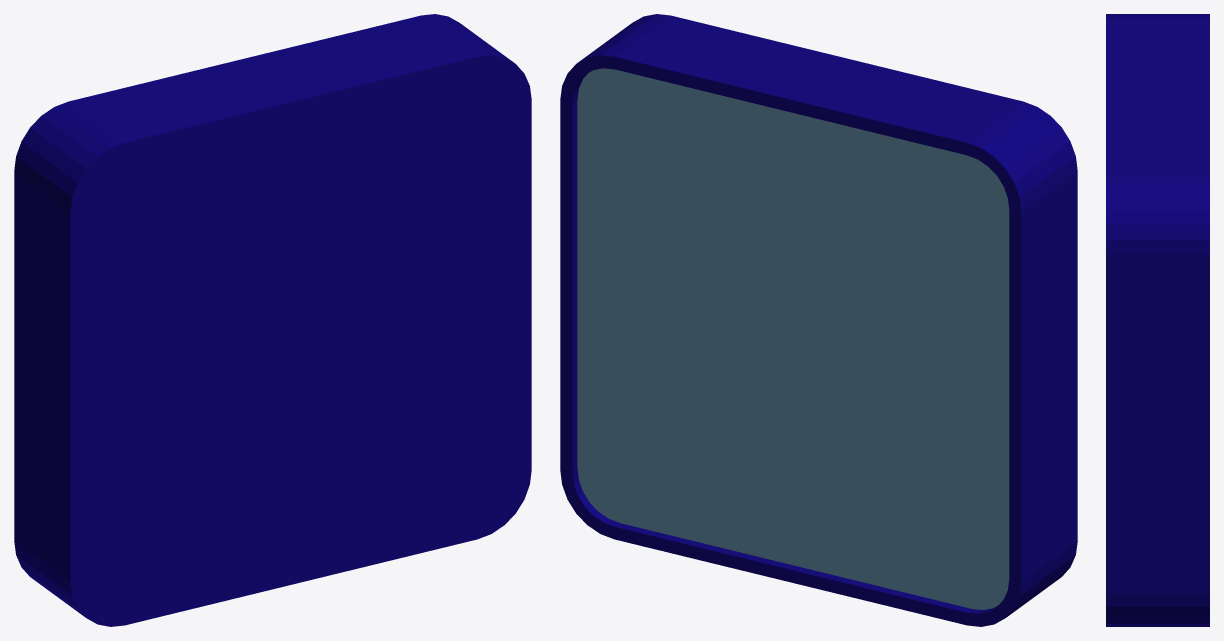
File: Education_Tab.fbx
3 renders of one model, left to right at view 1: azimuth 30°, elevation 25°; view 2: azimuth 150°, elevation 25°; view 3: azimuth 270°, elevation 25°, orthographic. The views are drawn at different scales.
Parts seen in each view (by area): view 1: Cube.002; view 2: Cube.002; view 3: Cube.002.
Boxes of the visible parts, x1=… form: Cube.002: x1=14, y1=14, x2=531, y2=626; Cube.002: x1=560, y1=14, x2=1077, y2=626; Cube.002: x1=1106, y1=14, x2=1209, y2=626.
Bounding box in the file's own units: 883 × 883 × 187.
